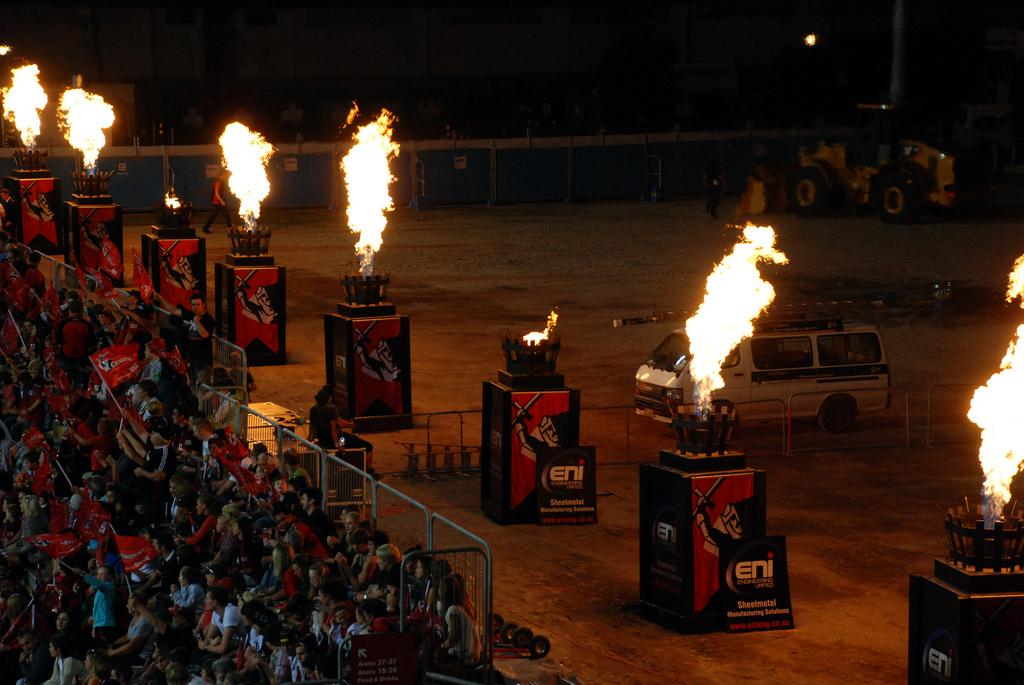fire: (345, 127, 393, 243), (707, 265, 752, 388), (228, 117, 272, 208), (10, 62, 53, 140), (63, 83, 105, 160)
